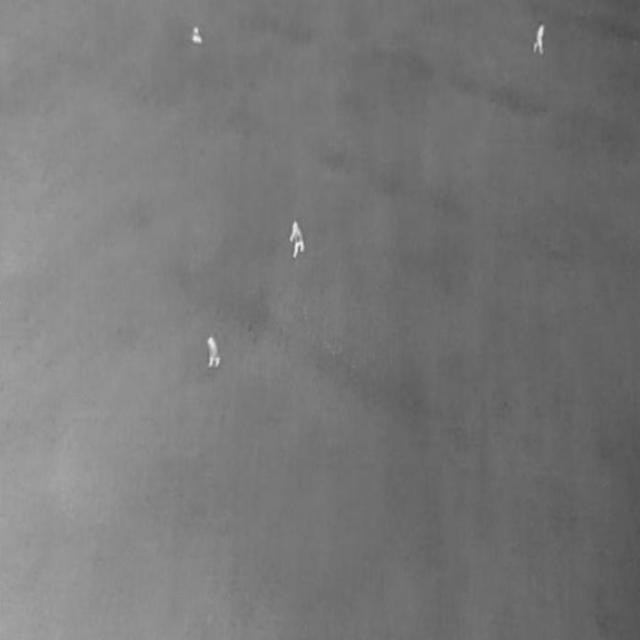person: (290, 222, 307, 259), (207, 336, 221, 370), (534, 24, 547, 57), (192, 26, 204, 47)
